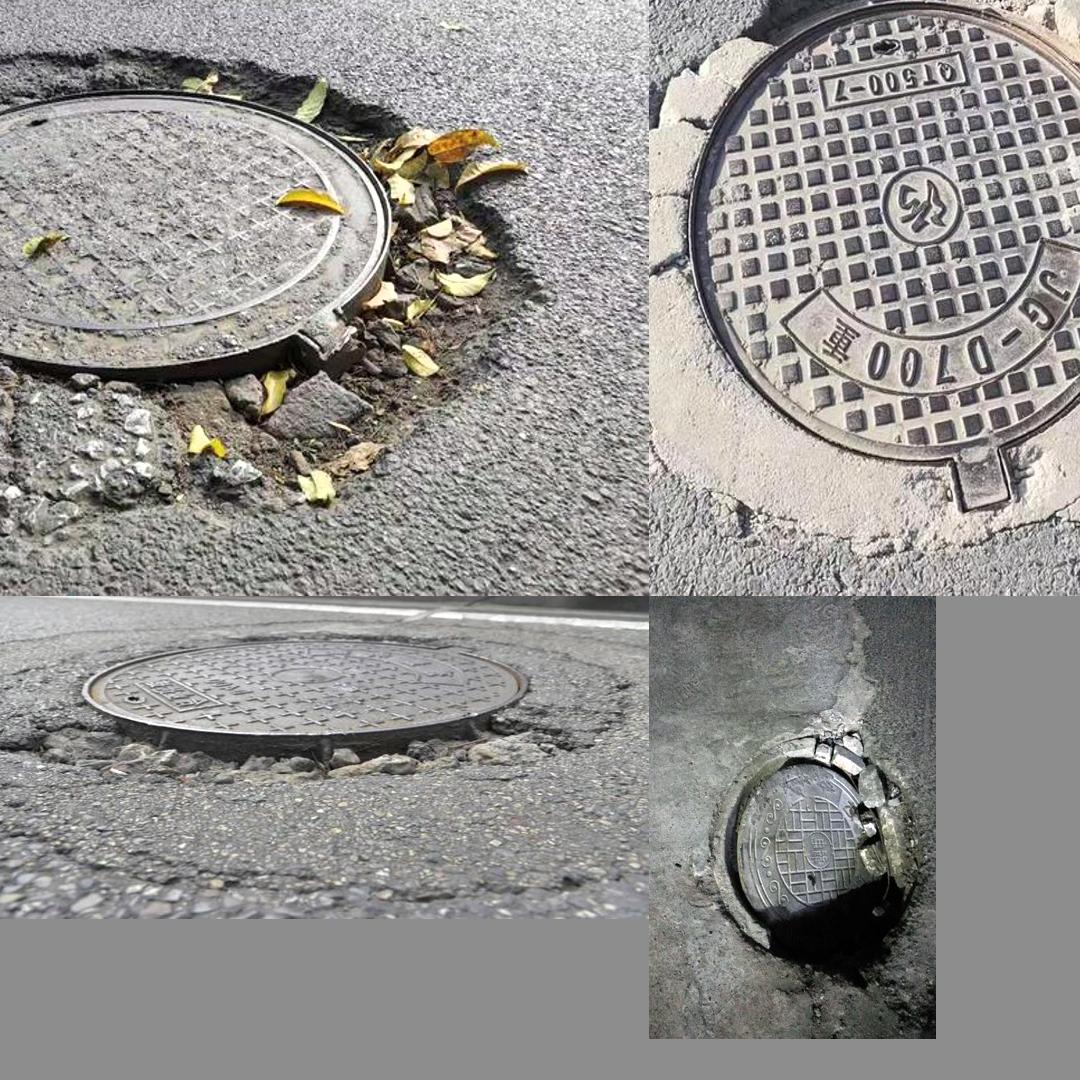circle: (0, 46, 524, 517), (665, 0, 1080, 539), (6, 625, 626, 795), (702, 734, 927, 972)
